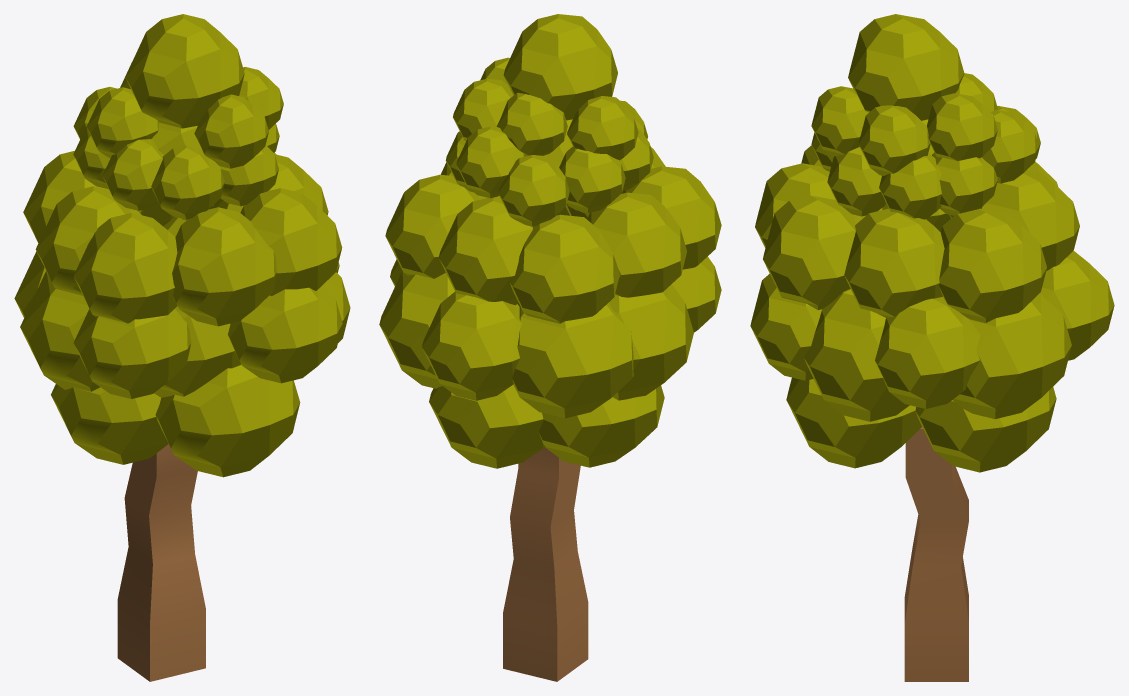
File: Prop_Tree_Mod.fbx
3 renders of one model, left to right at view 1: azimuth 30°, elevation 25°; view 2: azimuth 150°, elevation 25°; view 3: azimuth 270°, elevation 25°, orthographic. The views are drawn at different scales.
Visible parts, largest first — view 1: Tree_01; view 2: Tree_01; view 3: Tree_01.
Boxes of the visible parts, bbox=[...] form: Tree_01: bbox=[14, 14, 350, 681]; Tree_01: bbox=[379, 14, 721, 681]; Tree_01: bbox=[750, 14, 1114, 681].
Size of the model in its own units: 2.69 by 5.59 by 2.83.
